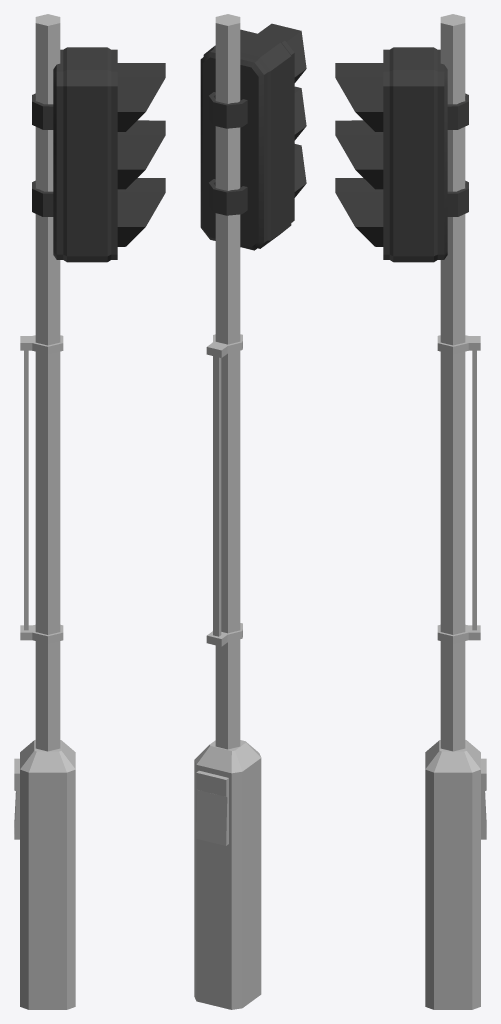
The model's file is SM_TrafficLamp_01.FBX.
3 views of the same model, side by side, from view 1: azimuth 90°, elevation 25°; view 2: azimuth 150°, elevation 25°; view 3: azimuth 270°, elevation 25° (orthographic).
Visible parts, largest first — view 1: SM_TrafficLamp_01; view 2: SM_TrafficLamp_01; view 3: SM_TrafficLamp_01.
Boxes of the visible parts, left/top/right/bottom form: SM_TrafficLamp_01: left=14, top=14, right=165, bottom=1009; SM_TrafficLamp_01: left=194, top=14, right=306, bottom=1009; SM_TrafficLamp_01: left=335, top=14, right=486, bottom=1009.
Bounding box in the file's own units: 0.2389 × 3.32 × 0.4655.
Materials: 1 (1 with a texture image).
